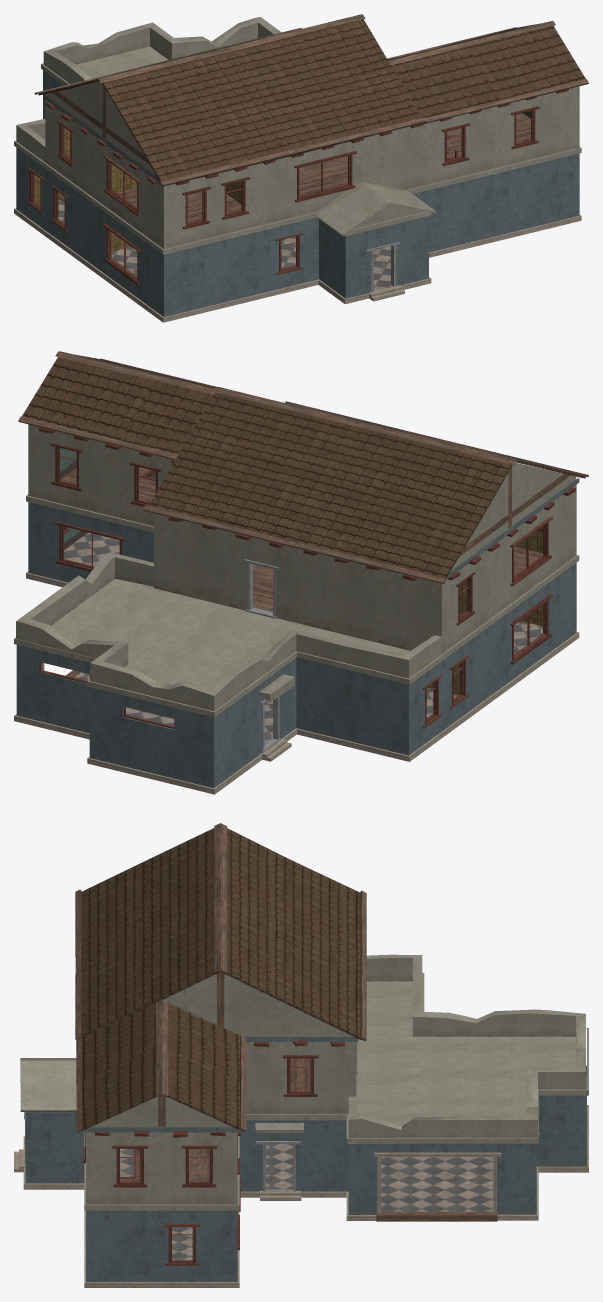
Rendered from BuildingLarge01_2048_lod1.glb.
3 renders of one model, top to bottom at view 1: azimuth 30°, elevation 25°; view 2: azimuth 150°, elevation 25°; view 3: azimuth 270°, elevation 25°, orthographic. The views are drawn at different scales.
Parts seen in each view (by area): view 1: xiutz_building_large_01_lod1; view 2: xiutz_building_large_01_lod1; view 3: xiutz_building_large_01_lod1.
Part boxes in pixels (x1=…): xiutz_building_large_01_lod1: x1=14, y1=14, x2=588, y2=322; xiutz_building_large_01_lod1: x1=14, y1=351, x2=588, y2=794; xiutz_building_large_01_lod1: x1=14, y1=823, x2=588, y2=1287.
Size of the model in its own units: 31.68 by 14.14 by 32.12.
Materials: 1 (1 with a texture image).
